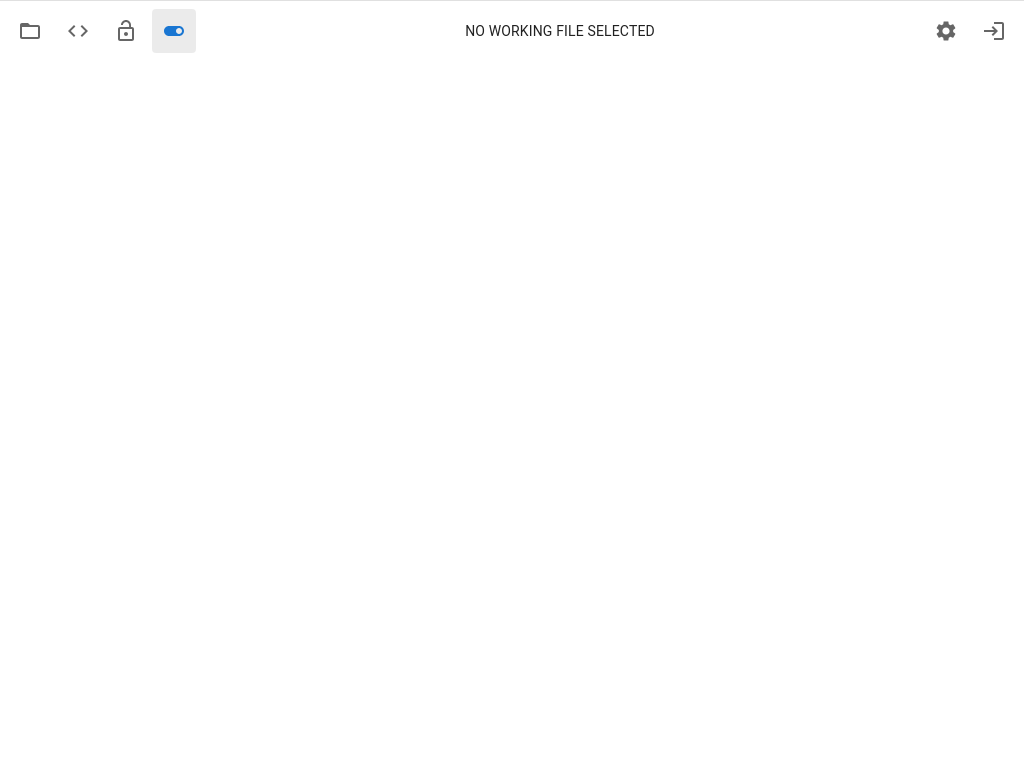
EditorConfigActions › keeps the Create New Project dialog open after dismissing the File menu
Click the button named "File" at (30, 31), box [8,9,52,53]
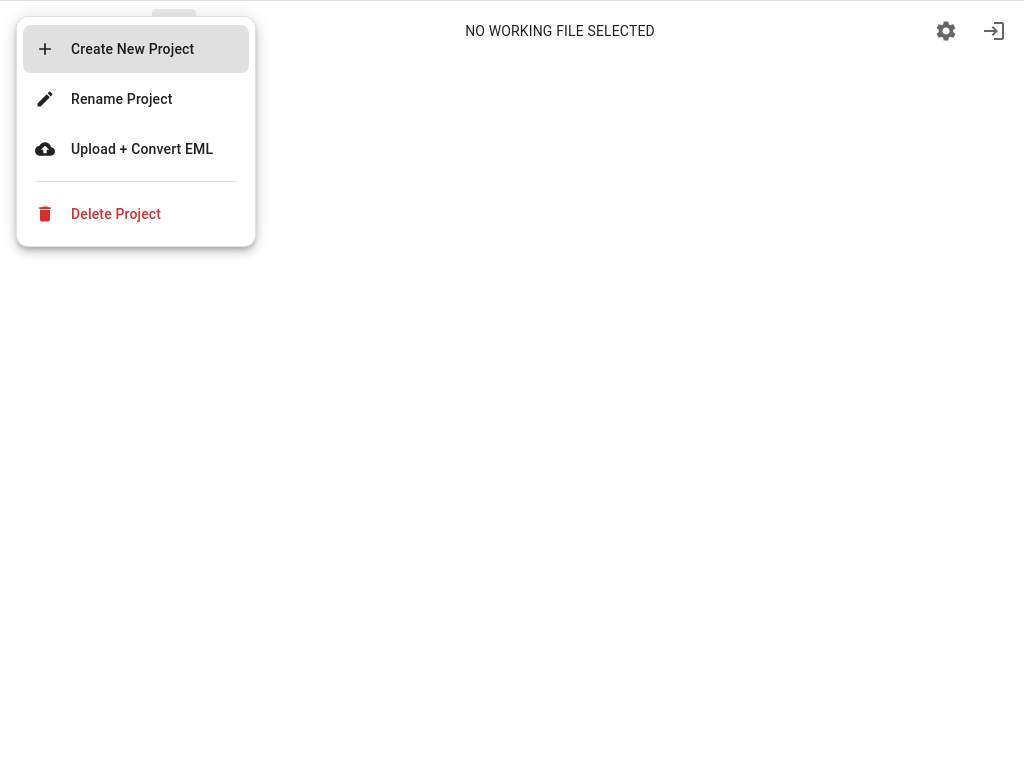
Click the menu item "Create New Project" at (136, 49), box [23,25,249,73]
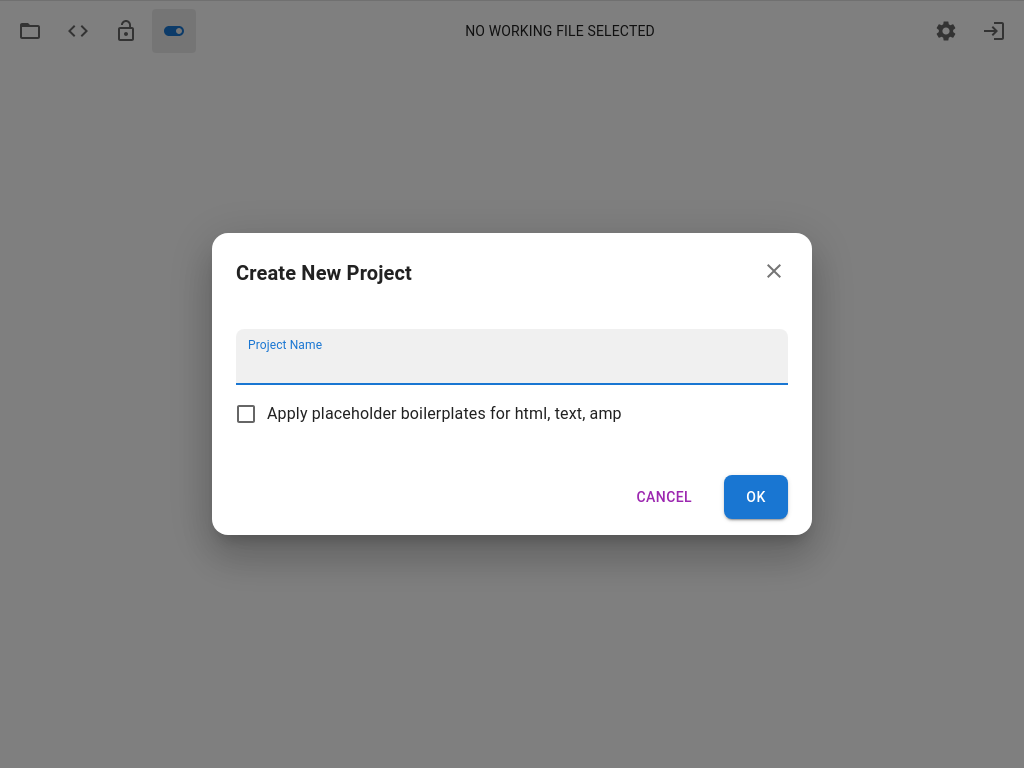
Check: the heading "Create New Project" is shown, box [212,233,812,305]
Check: the dialog is shown, box [212,233,812,535]
Click the button "Cancel" at (664, 497), box [620,475,708,519]
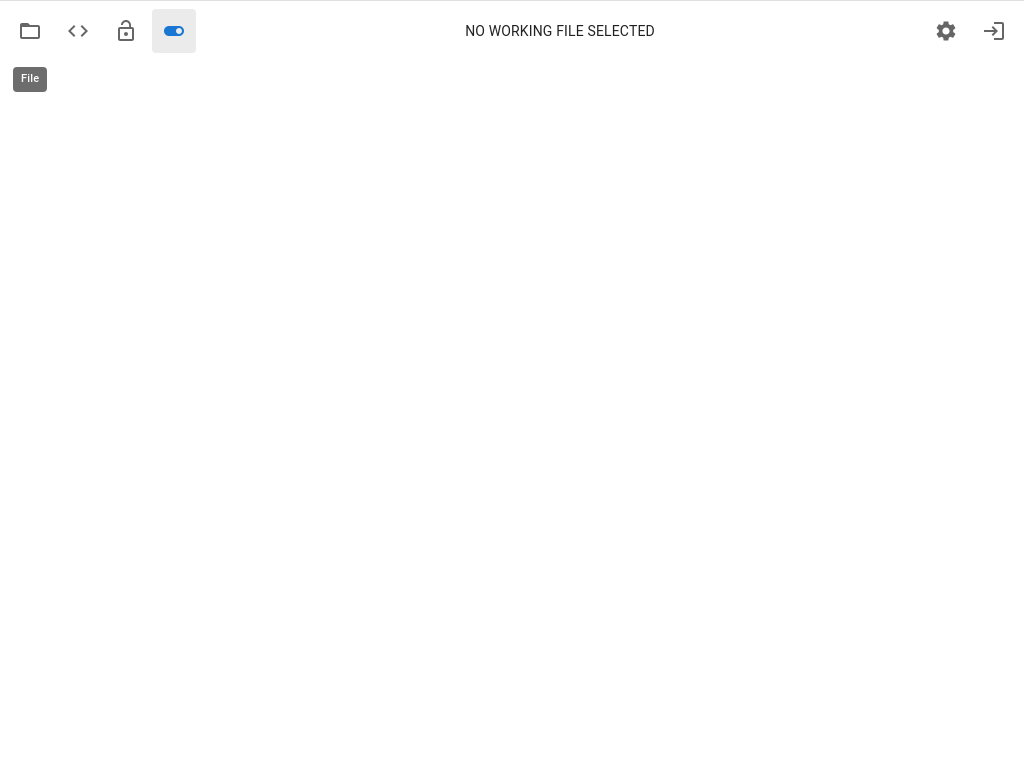
Check: the dialog is gone
